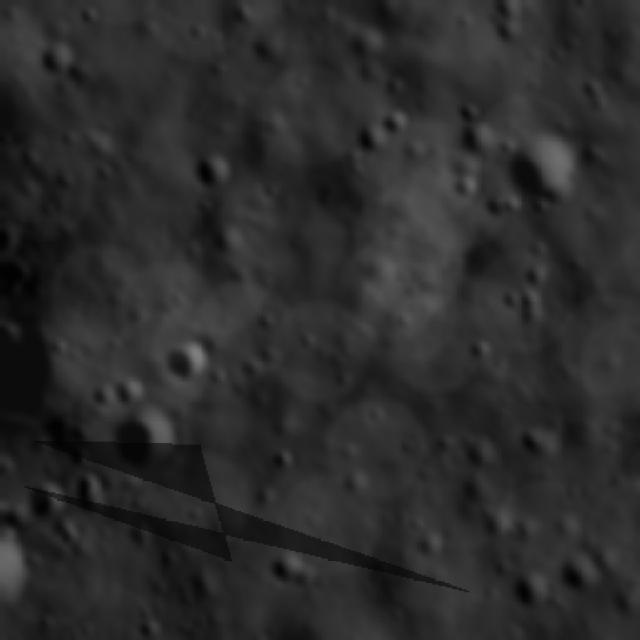crater: (498, 126, 590, 217), (100, 401, 186, 479), (256, 544, 327, 601), (500, 567, 566, 618), (153, 337, 215, 389), (179, 146, 238, 197), (473, 182, 519, 241), (64, 471, 116, 522), (454, 111, 504, 164), (451, 421, 500, 472), (513, 418, 559, 469), (202, 220, 252, 263), (35, 34, 76, 86), (348, 114, 394, 160), (551, 548, 595, 595), (21, 477, 62, 525), (78, 365, 119, 413), (462, 326, 498, 377), (107, 370, 148, 410), (378, 103, 418, 142), (503, 506, 540, 548), (332, 459, 374, 496), (410, 525, 448, 558), (268, 442, 301, 478), (487, 17, 525, 48), (448, 93, 480, 125)
